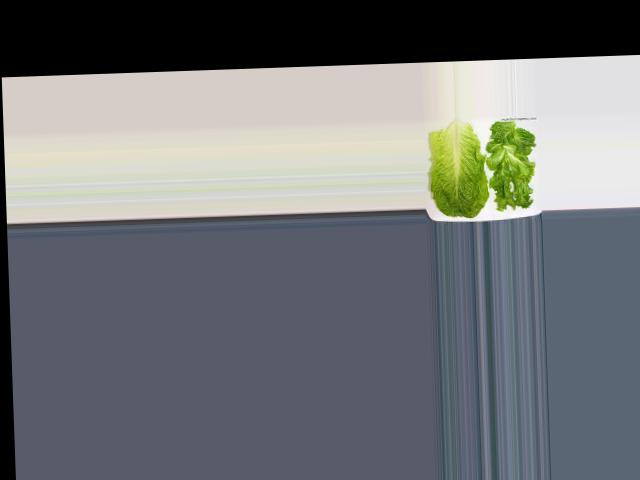lettuce: (487, 122, 543, 211)
